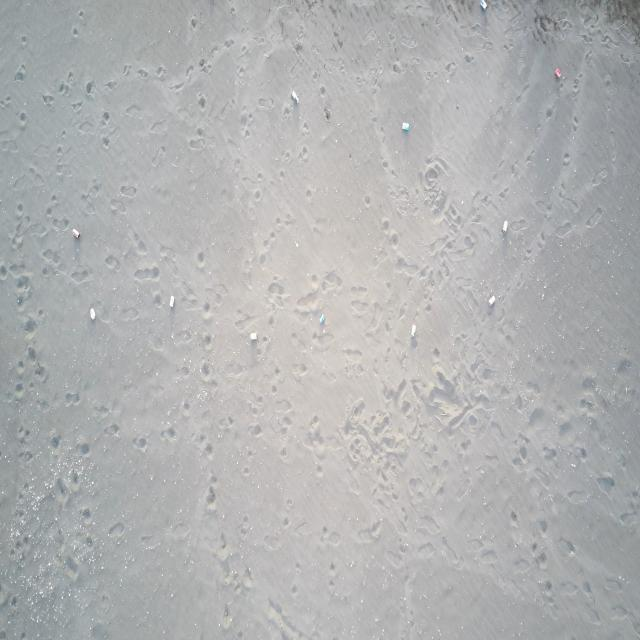tin-and-aluminum-cans: (502, 219, 510, 234), (89, 306, 96, 322), (292, 90, 300, 104), (480, 0, 490, 11), (487, 294, 496, 306), (410, 323, 417, 338), (72, 227, 80, 239), (248, 332, 258, 341), (556, 68, 563, 80), (319, 312, 325, 325), (402, 121, 409, 130), (170, 295, 174, 308)
